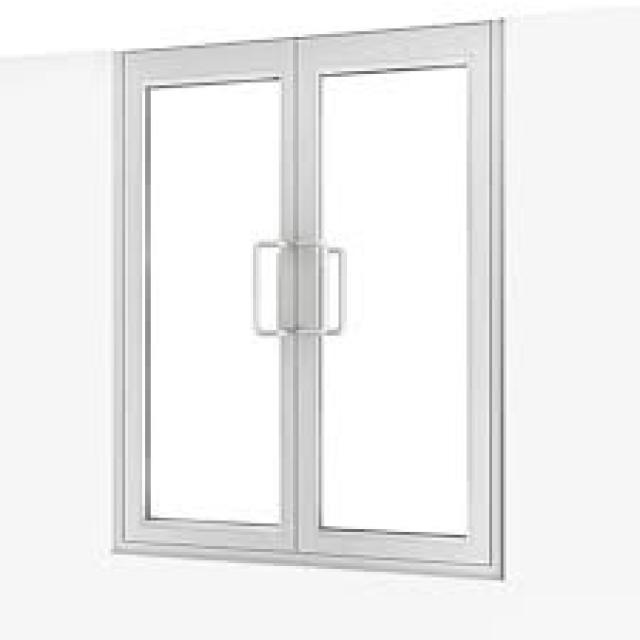door: (114, 21, 503, 582)
